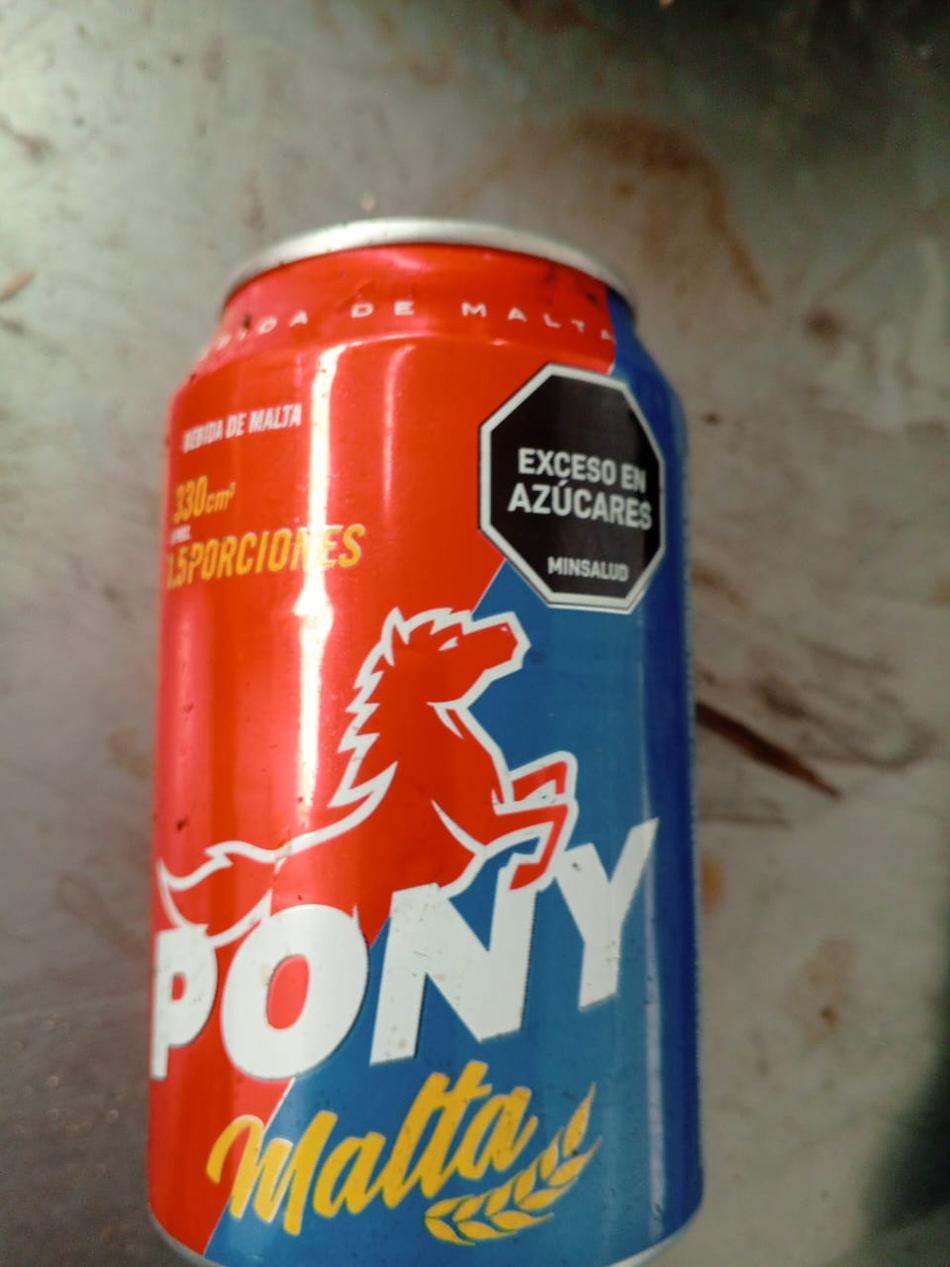Metal: (152, 219, 707, 1267)
